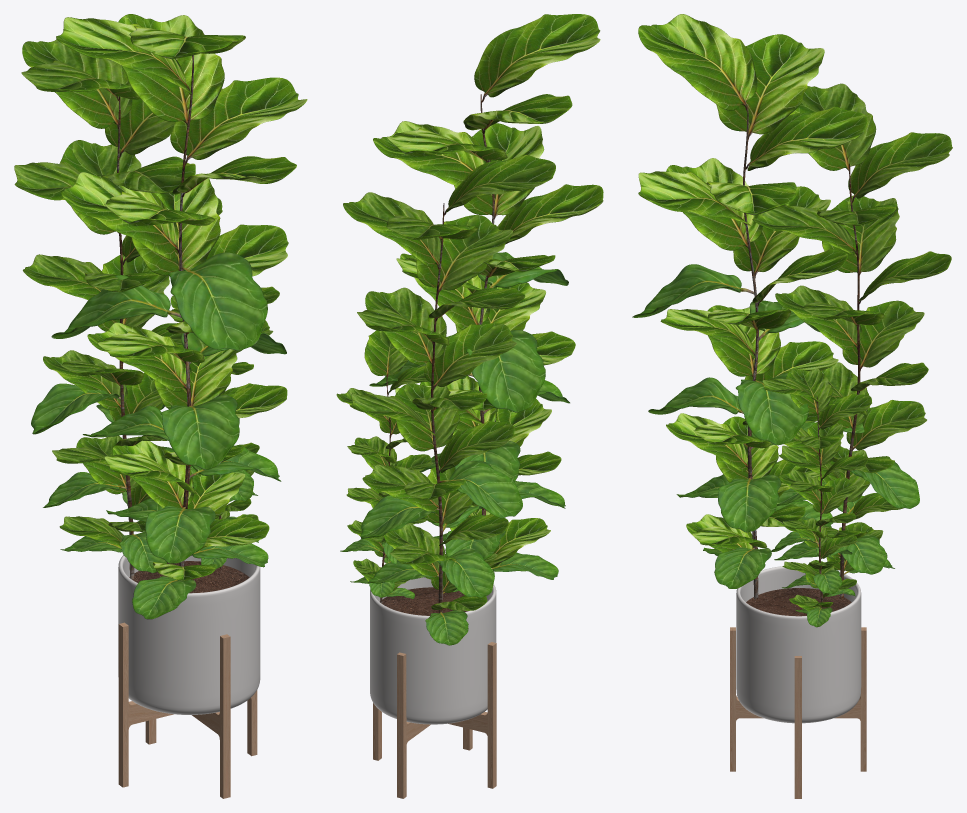
Rendered from indoor_plants.glb.
3 views of the same model, side by side, from view 1: azimuth 30°, elevation 25°; view 2: azimuth 150°, elevation 25°; view 3: azimuth 270°, elevation 25° (orthographic). The views are drawn at different scales.
Visible parts, largest first — view 1: HOJA 1_4, HOJA 1.001_10, HOJA 2_8, MACETA_0, HOJA 2.001_14, PATAS 1_3, PATAS 2_1, HOJA 1.002_16, TIERRA_2, TALLO.004_5, TALLO.005_11, HOJA 2.002_20; view 2: HOJA 1.001_10, HOJA 1_4, MACETA_0, HOJA 2_8, HOJA 2.001_14, HOJA 1.002_16, PATAS 1_3, PATAS 2_1, TIERRA_2, HOJA 2.002_20, TALLO.005_11; view 3: HOJA 1_4, HOJA 1.001_10, MACETA_0, HOJA 2_8, HOJA 1.002_16, HOJA 2.001_14, PATAS 2_1, HOJA 2.002_20, TIERRA_2, PATAS 1_3, TALLO.004_5, TALLO.005_11.
Part boxes in pixels (<box>): HOJA 1_4: <box>56,14,307,580</box>; HOJA 1.001_10: <box>14,39,222,547</box>; HOJA 2_8: <box>51,252,286,619</box>; MACETA_0: <box>118,555,260,714</box>; HOJA 2.001_14: <box>31,383,196,573</box>; PATAS 1_3: <box>118,622,257,787</box>; PATAS 2_1: <box>145,634,230,798</box>; HOJA 1.002_16: <box>169,286,279,520</box>; TIERRA_2: <box>129,561,249,593</box>; TALLO.004_5: <box>179,55,193,566</box>; TALLO.005_11: <box>117,96,134,579</box>; HOJA 2.002_20: <box>201,470,258,569</box>; HOJA 1.001_10: <box>343,154,555,610</box>; HOJA 1_4: <box>373,14,603,567</box>; MACETA_0: <box>370,577,496,724</box>; HOJA 2_8: <box>369,252,569,579</box>; HOJA 2.001_14: <box>360,460,522,645</box>; HOJA 1.002_16: <box>336,330,432,590</box>; PATAS 1_3: <box>373,642,496,788</box>; PATAS 2_1: <box>397,652,472,798</box>; TIERRA_2: <box>380,587,467,615</box>; HOJA 2.002_20: <box>340,539,414,598</box>; TALLO.005_11: <box>431,203,444,613</box>; HOJA 1_4: <box>638,14,867,552</box>; HOJA 1.001_10: <box>752,83,952,571</box>; MACETA_0: <box>736,566,861,723</box>; HOJA 2_8: <box>632,264,832,588</box>; HOJA 1.002_16: <box>762,368,871,610</box>; HOJA 2.001_14: <box>774,423,919,574</box>; PATAS 2_1: <box>730,627,866,771</box>; HOJA 2.002_20: <box>771,531,855,627</box>; TIERRA_2: <box>746,588,851,616</box>; PATAS 1_3: <box>794,656,801,798</box>; TALLO.004_5: <box>743,104,758,599</box>; TALLO.005_11: <box>840,163,860,599</box>.
Size of the model in its own units: 0.376 by 1.23 by 0.5045.
7 materials, 6 textured.
